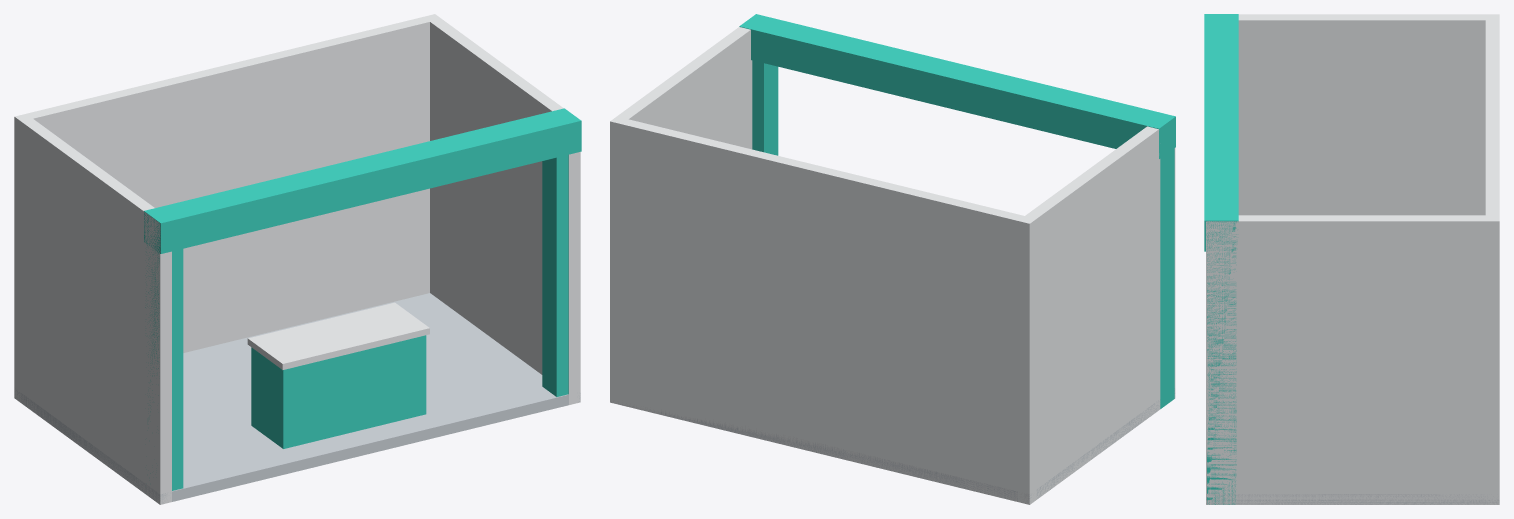
3 renders of one model, left to right at view 1: azimuth 30°, elevation 25°; view 2: azimuth 150°, elevation 25°; view 3: azimuth 270°, elevation 25°, orthographic.
Parts seen in each view (by area): view 1: Exhibition Booth Concept; view 2: Exhibition Booth Concept; view 3: Exhibition Booth Concept.
Part boxes in pixels (x1,y1,x2,y2): Exhibition Booth Concept: (14,14,581,504); Exhibition Booth Concept: (610,14,1175,504); Exhibition Booth Concept: (1204,14,1499,504).
Size of the model in its own units: 5 by 3.2 by 3.01.
